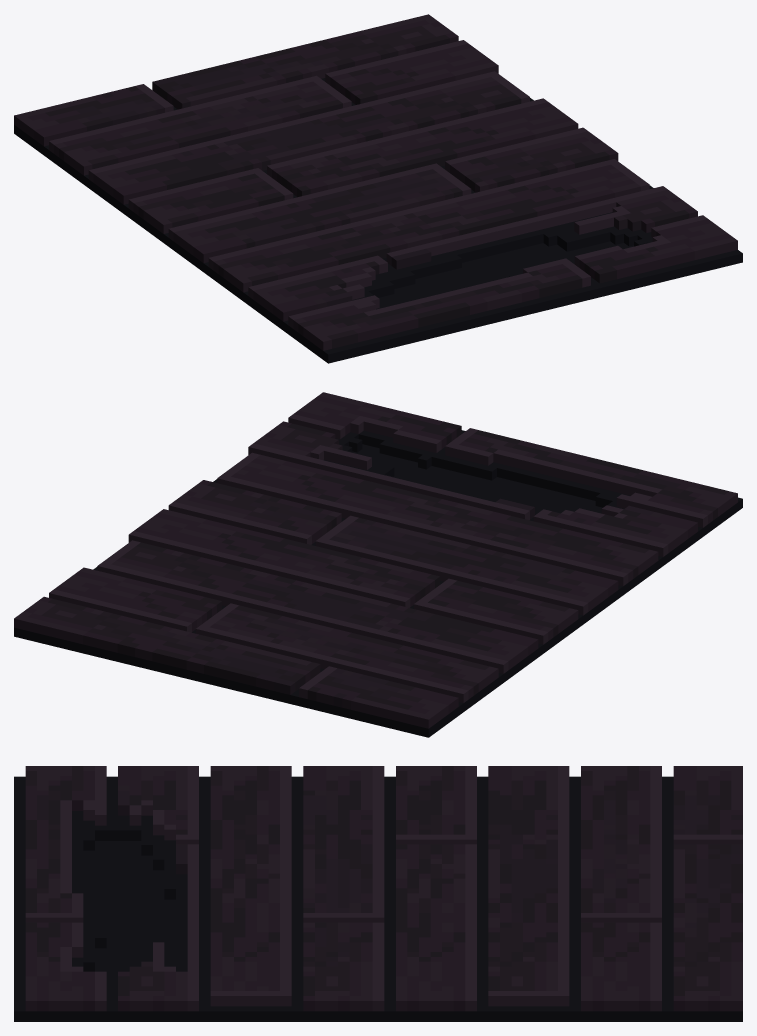
The model's file is Floor-10.obj.
3 renders of one model, top to bottom at view 1: azimuth 30°, elevation 25°; view 2: azimuth 150°, elevation 25°; view 3: azimuth 270°, elevation 25°, orthographic. The views are drawn at different scales.
Bounding box in the file's own units: 4.8 × 0.3 × 6.3.
1 material, 1 textured.
